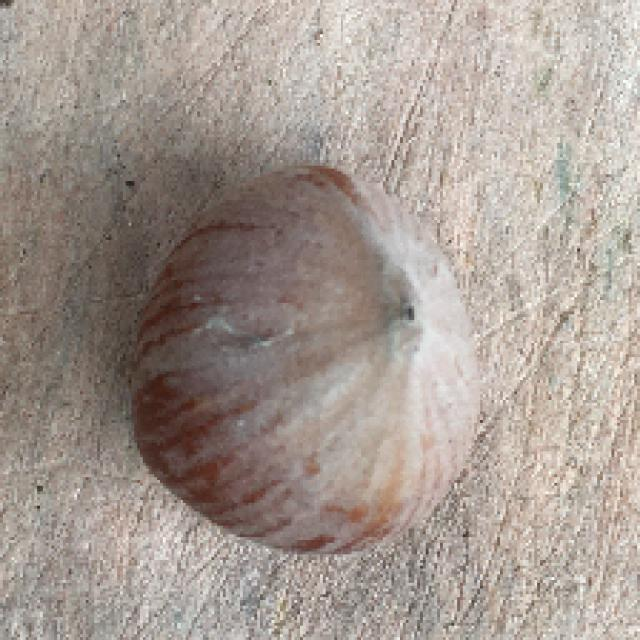qualityHazelnut: (125, 161, 491, 559)
